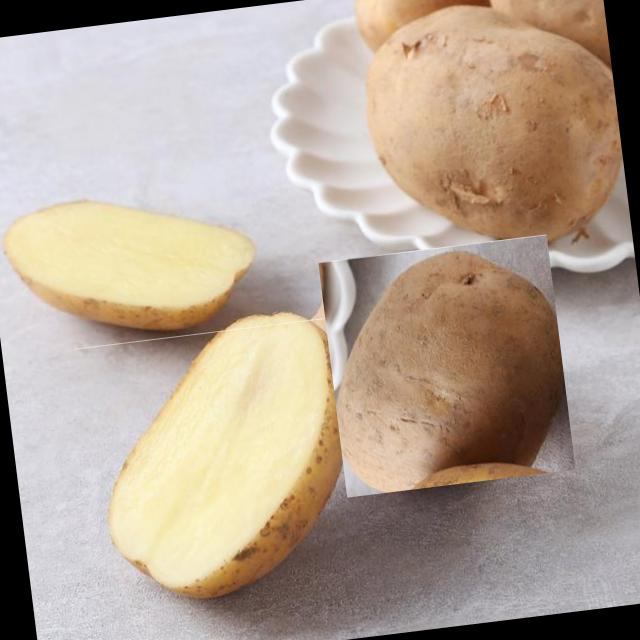potato: (74, 316, 368, 598), (317, 235, 577, 496)
